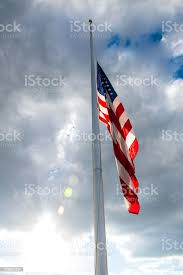Flag: (96, 61, 140, 214)
